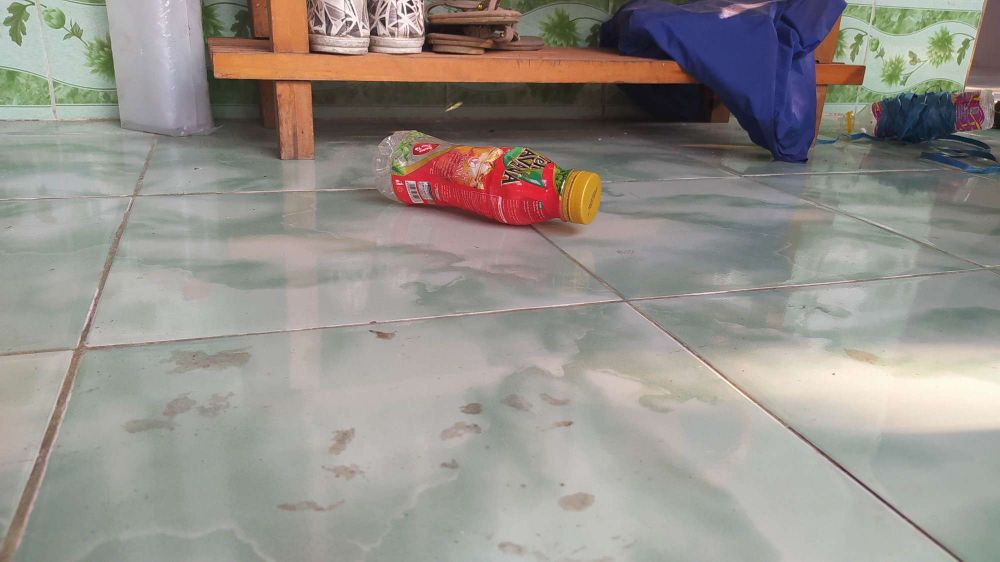botol: (344, 96, 621, 242)
